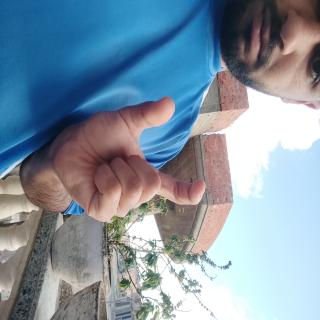NOON: (67, 138, 169, 320)
